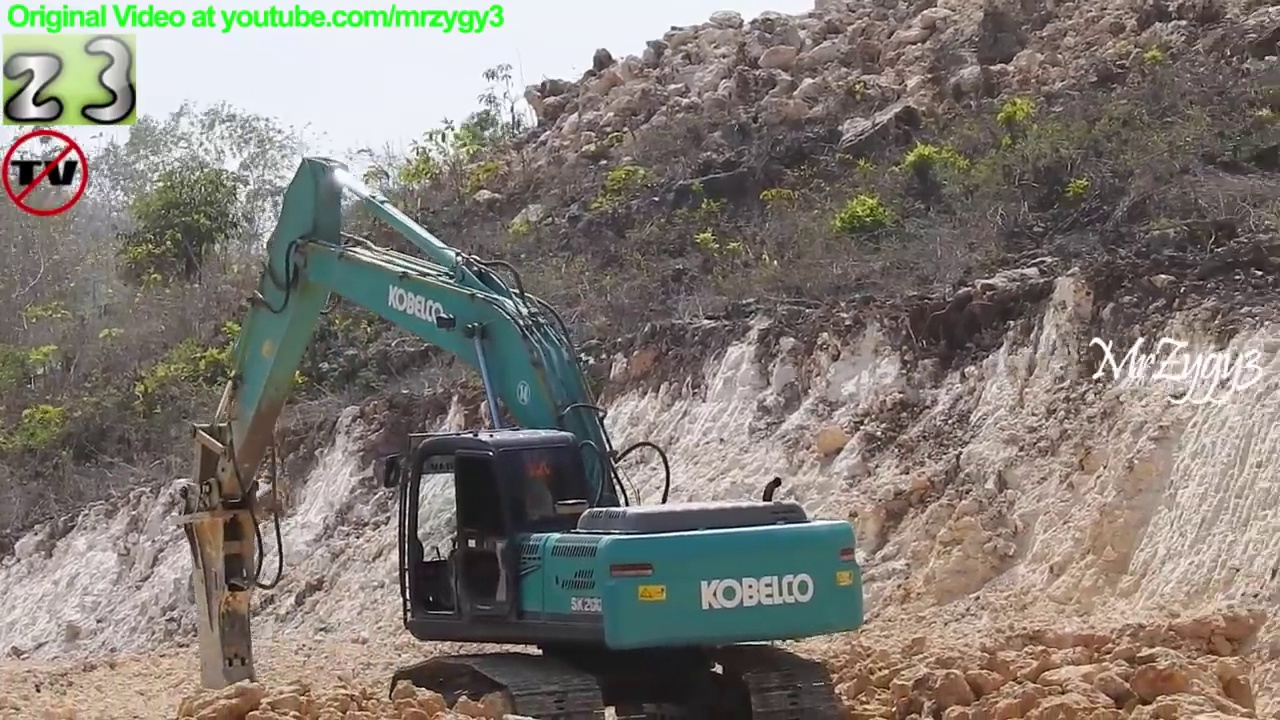excavator breaker: (165, 145, 872, 720)
